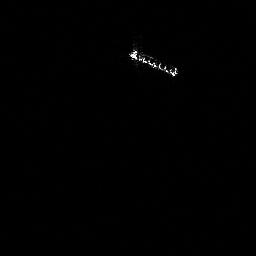ship: (123, 43, 183, 80)
